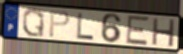6: (100, 13, 123, 45)
E: (125, 14, 151, 47)
H: (151, 17, 177, 48)
L: (76, 12, 96, 41)
P: (48, 9, 72, 39)
Q: (22, 6, 46, 38)
